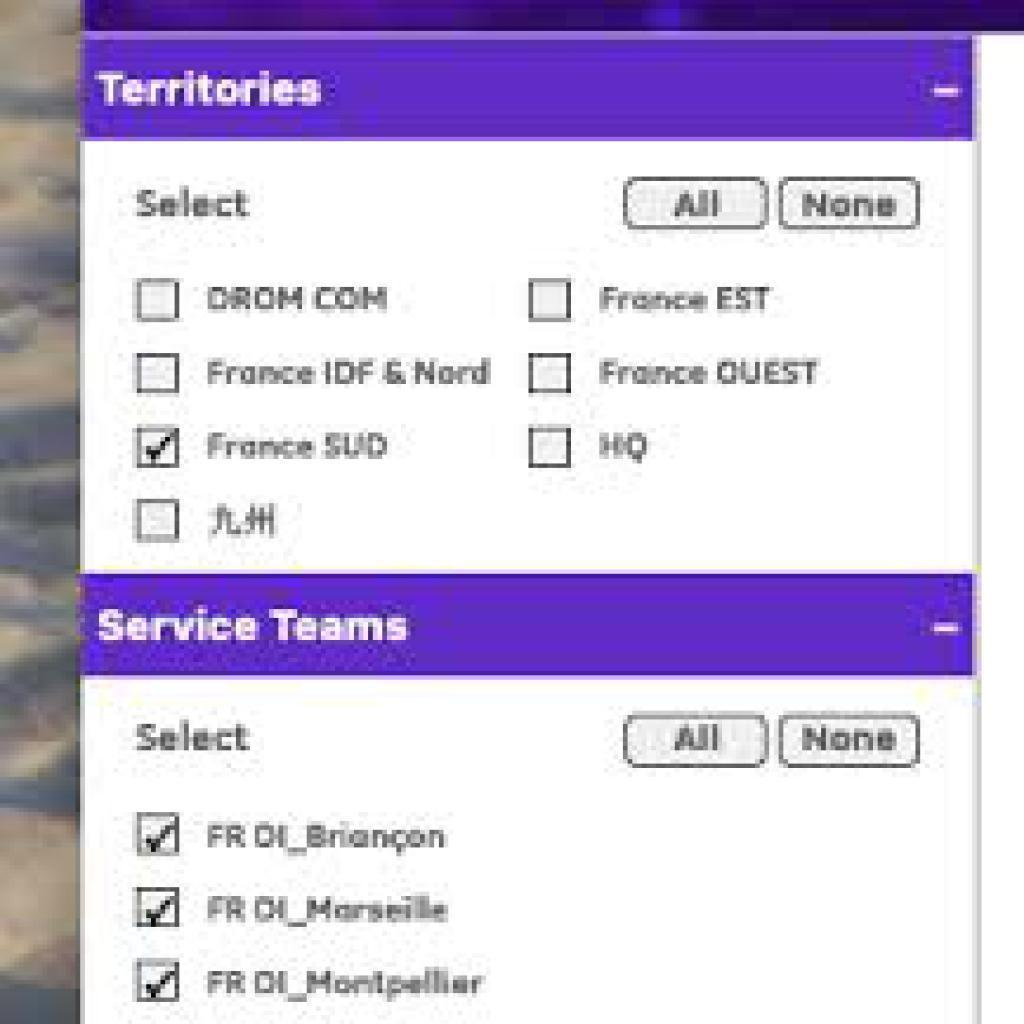button: (624, 714, 770, 769), (780, 714, 922, 769), (624, 177, 769, 230), (781, 175, 921, 229)
checkbox: (528, 279, 573, 324), (136, 279, 183, 322), (135, 960, 181, 1003), (135, 498, 179, 542), (137, 353, 182, 395), (138, 811, 180, 856), (528, 428, 572, 469), (528, 354, 571, 395), (138, 430, 181, 470), (138, 889, 182, 928)
label: (204, 887, 451, 931), (210, 355, 494, 392), (207, 967, 489, 1004), (202, 820, 453, 860), (597, 351, 825, 391), (205, 282, 395, 318), (204, 431, 394, 465), (597, 281, 775, 315), (210, 497, 283, 544), (595, 424, 655, 471)
